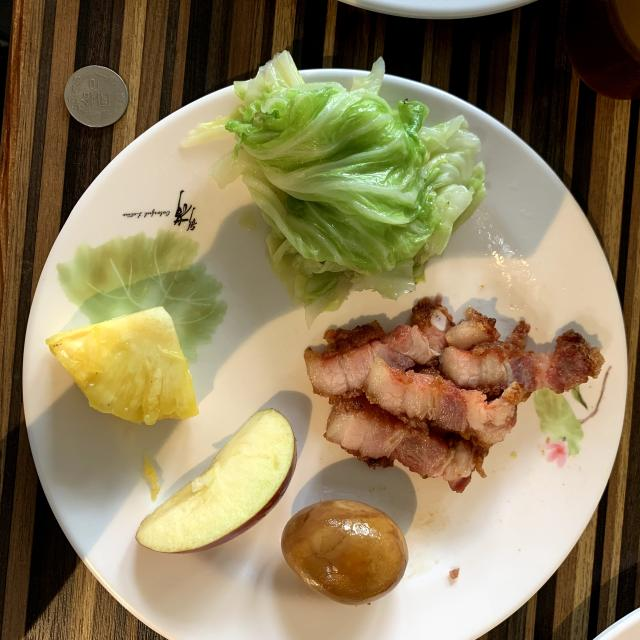apple -sliced-: (136, 409, 298, 552)
cabbage: (185, 51, 485, 321)
coin: (64, 65, 129, 128)
pineapple: (46, 306, 199, 425)
red grilled pork: (305, 295, 604, 491)
soy egg: (281, 500, 408, 605)
